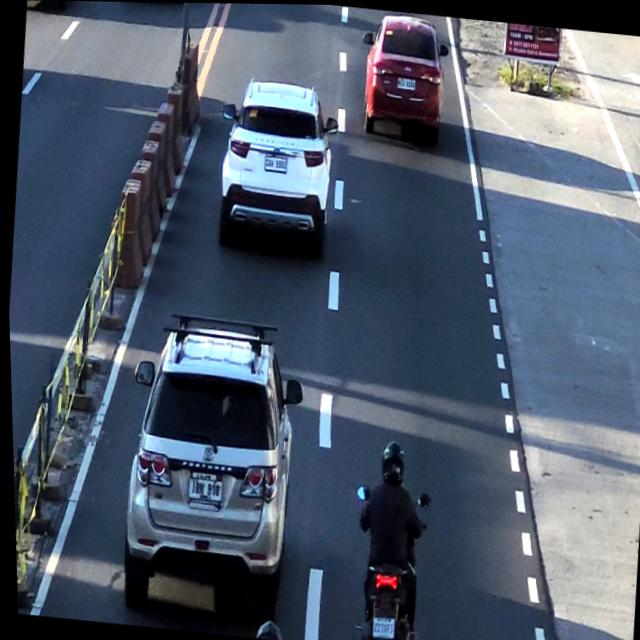Car: (117, 313, 294, 623), (211, 75, 337, 255), (358, 10, 447, 142)
License-Plate: (182, 473, 223, 501), (262, 151, 289, 176), (366, 616, 391, 640), (396, 72, 417, 92)
Motorcycle: (347, 439, 433, 640)
